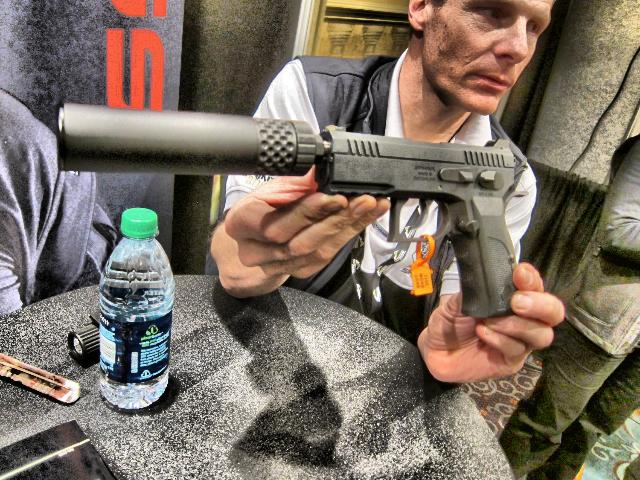pistol: (312, 128, 530, 320)
